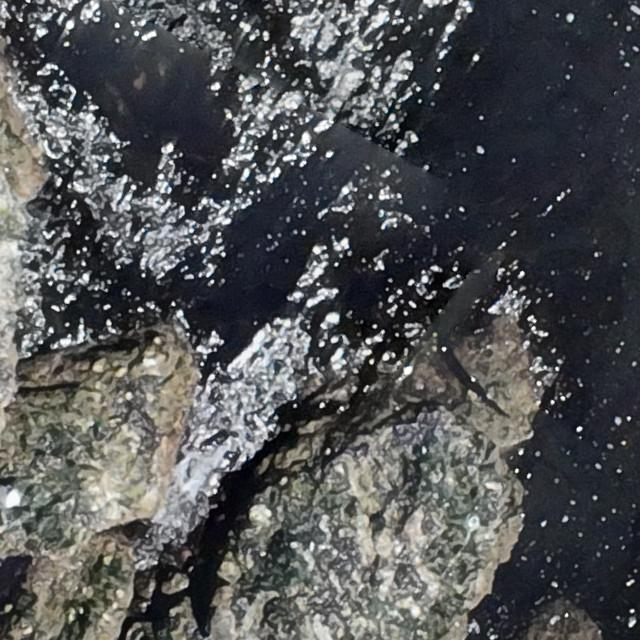umineko: (1, 485, 20, 508)
